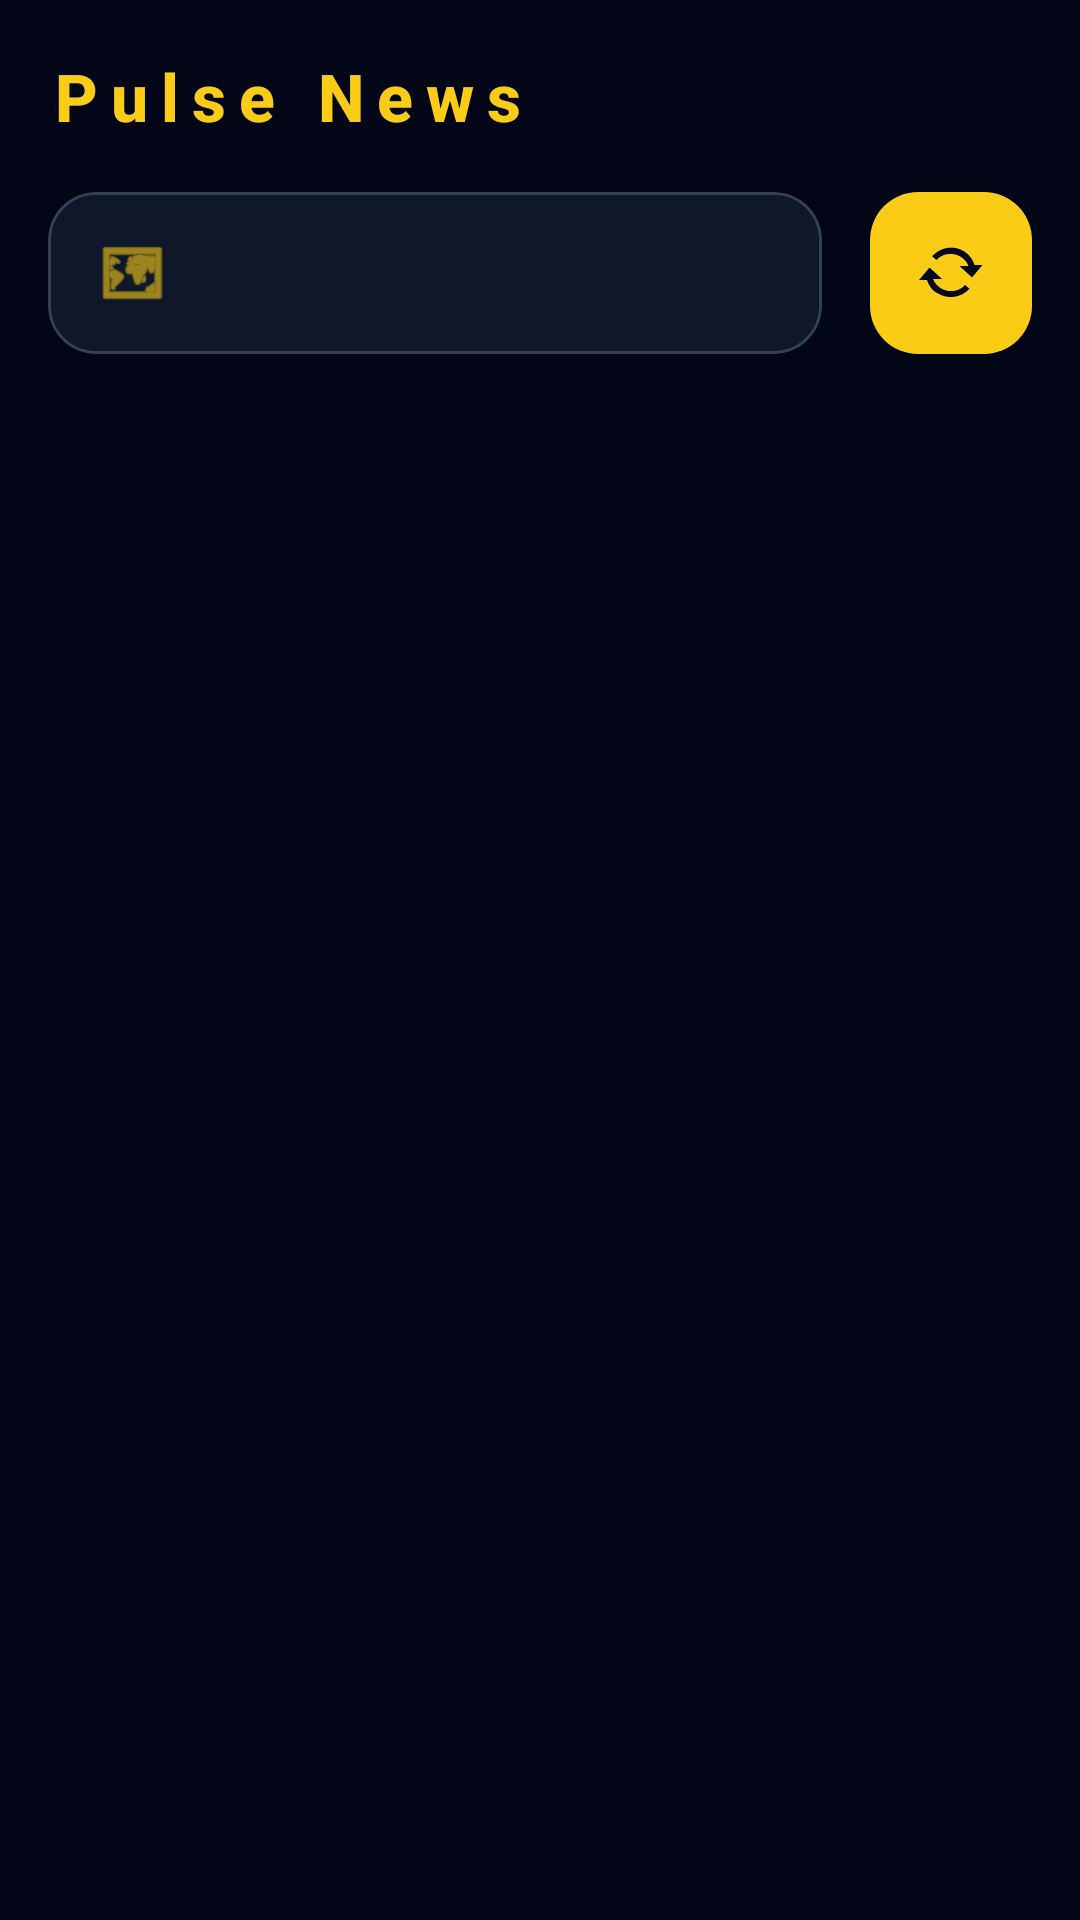

Locate icon controls on the screen. Image size 1080x1920, boxes as (x1, y1, x2, y2).
mapmode: (102, 247, 162, 299)
sync: (870, 192, 1032, 354)
